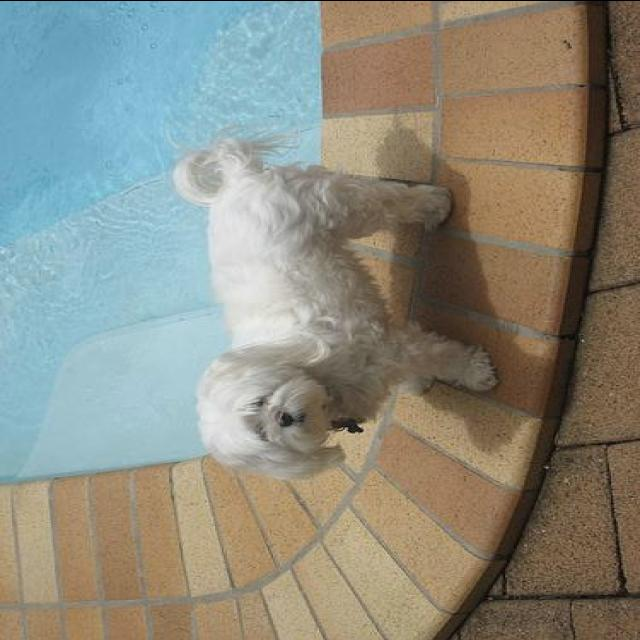maltese_dog: (172, 132, 498, 476)
